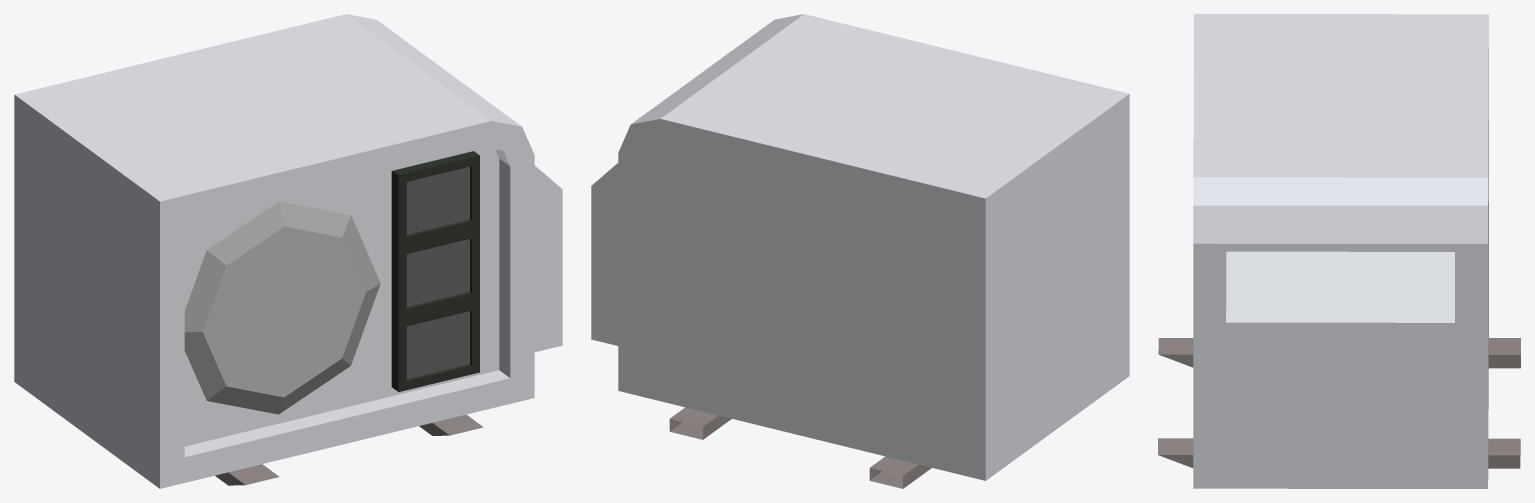
Rendered from Air_Compressor.glb.
The picture shows the model from 3 angles, left to right: view 1: azimuth 30°, elevation 25°; view 2: azimuth 150°, elevation 25°; view 3: azimuth 270°, elevation 25°; orthographic projection. The views are drawn at different scales.
Parts seen in each view (by area): view 1: AirCompressor; view 2: AirCompressor; view 3: AirCompressor.
Boxes of the visible parts, x1,y1,x2,y2 form: AirCompressor: (14, 14, 562, 488); AirCompressor: (591, 14, 1129, 488); AirCompressor: (1158, 14, 1520, 488).
Size of what is drawn, in the model's own units: 1.4 by 0.9594 by 1.04.
1 material, 1 textured.
